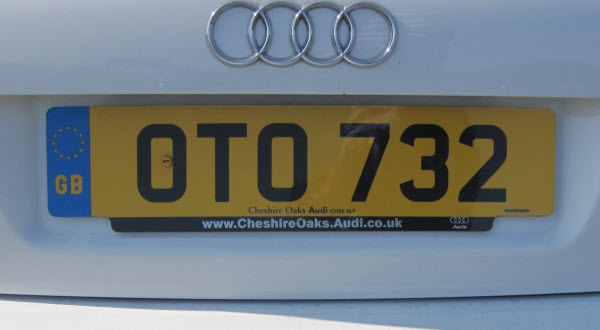license_plate: (46, 103, 556, 219)
